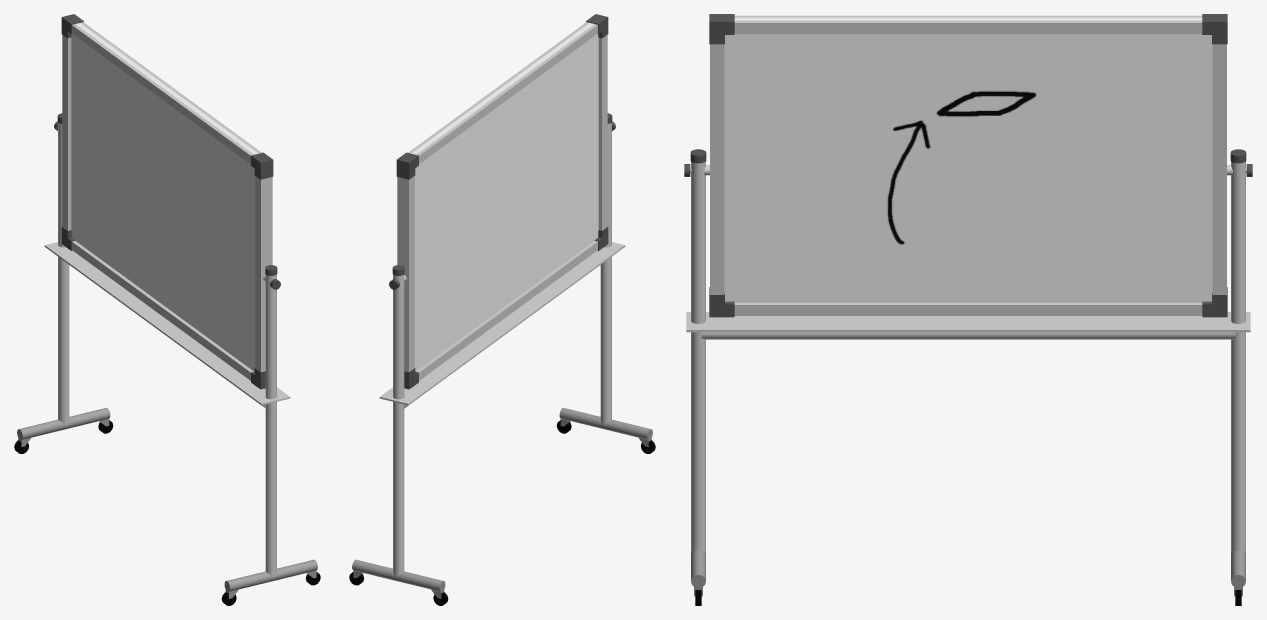
File: whiteboard.glb
The picture shows the model from 3 angles, left to right: view 1: azimuth 30°, elevation 25°; view 2: azimuth 150°, elevation 25°; view 3: azimuth 270°, elevation 25°; orthographic projection. The views are drawn at different scales.
Visible parts, largest first — view 1: Backboard, Side Stands, Sideboards (Top and Bottom), Sideboards (Left and Right), Marker Holder, Bottom Stands, Corner Vertical, Wheel, Corner Horizontal; view 2: Backboard, Side Stands, Sideboards (Top and Bottom), Sideboards (Left and Right), Marker Holder, Bottom Stands, Corner Vertical, Wheel, Corner Horizontal; view 3: Backboard, Sideboards (Top and Bottom), Side Stands, Marker Holder, Sideboards (Left and Right), Undercarraige, hint, Corner Vertical, Bottom Stands, Corner Horizontal.
Part boxes in pixels (x1=…): Backboard: x1=71, y1=23, x2=258, y2=371; Side Stands: x1=58, y1=122, x2=276, y2=577; Sideboards (Top and Bottom): x1=72, y1=22, x2=261, y2=380; Sideboards (Left and Right): x1=62, y1=35, x2=272, y2=371; Marker Holder: x1=44, y1=242, x2=290, y2=405; Bottom Stands: x1=17, y1=407, x2=317, y2=591; Corner Vertical: x1=61, y1=14, x2=273, y2=389; Wheel: x1=14, y1=420, x2=320, y2=605; Corner Horizontal: x1=64, y1=16, x2=269, y2=387; Backboard: x1=411, y1=23, x2=598, y2=371; Side Stands: x1=393, y1=122, x2=611, y2=577; Sideboards (Top and Bottom): x1=408, y1=22, x2=597, y2=380; Sideboards (Left and Right): x1=397, y1=35, x2=607, y2=371; Marker Holder: x1=379, y1=242, x2=625, y2=405; Bottom Stands: x1=352, y1=407, x2=652, y2=591; Corner Vertical: x1=396, y1=14, x2=608, y2=389; Wheel: x1=349, y1=420, x2=655, y2=605; Corner Horizontal: x1=400, y1=16, x2=605, y2=387; Backboard: x1=724, y1=17, x2=1212, y2=302; Sideboards (Top and Bottom): x1=734, y1=15, x2=1202, y2=315; Side Stands: x1=691, y1=161, x2=1245, y2=552; Marker Holder: x1=686, y1=312, x2=1250, y2=332; Sideboards (Left and Right): x1=710, y1=44, x2=1226, y2=294; Undercarraige: x1=701, y1=332, x2=1235, y2=339; hint: x1=887, y1=90, x2=1036, y2=244; Corner Vertical: x1=709, y1=14, x2=1227, y2=317; Bottom Stands: x1=691, y1=550, x2=1245, y2=588; Corner Horizontal: x1=717, y1=14, x2=1219, y2=317.
Bounding box in the file's own units: 0.8209 × 3.5 × 3.21.
15 materials, 1 textured.
